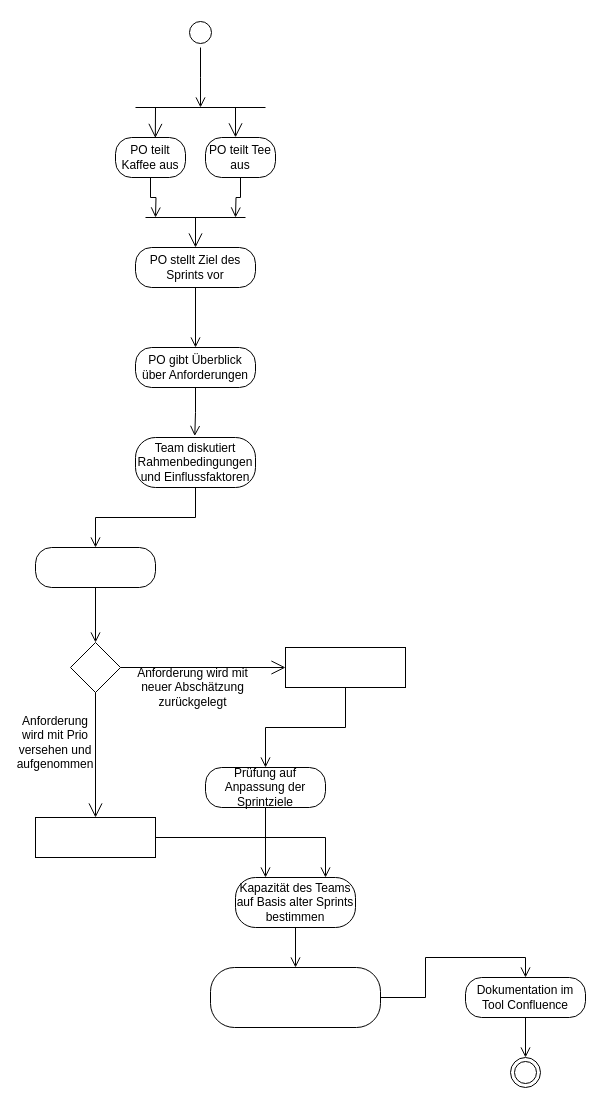
This 603x1105 diagram has some shape labels left out. Each missing label, with the centre of its shape:
"Aufwand für die Anforderungen abschätzen" belongs at point 95,567.
"Product Backlog" belongs at point 345,667.
"Selektiertes Product Backlog" belongs at point 95,837.
"Team macht Forecast welche Backlog-Items im Sprint umgesetzt werden können" belongs at point 295,997.
